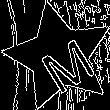M_NW: (25, 23, 93, 90)
